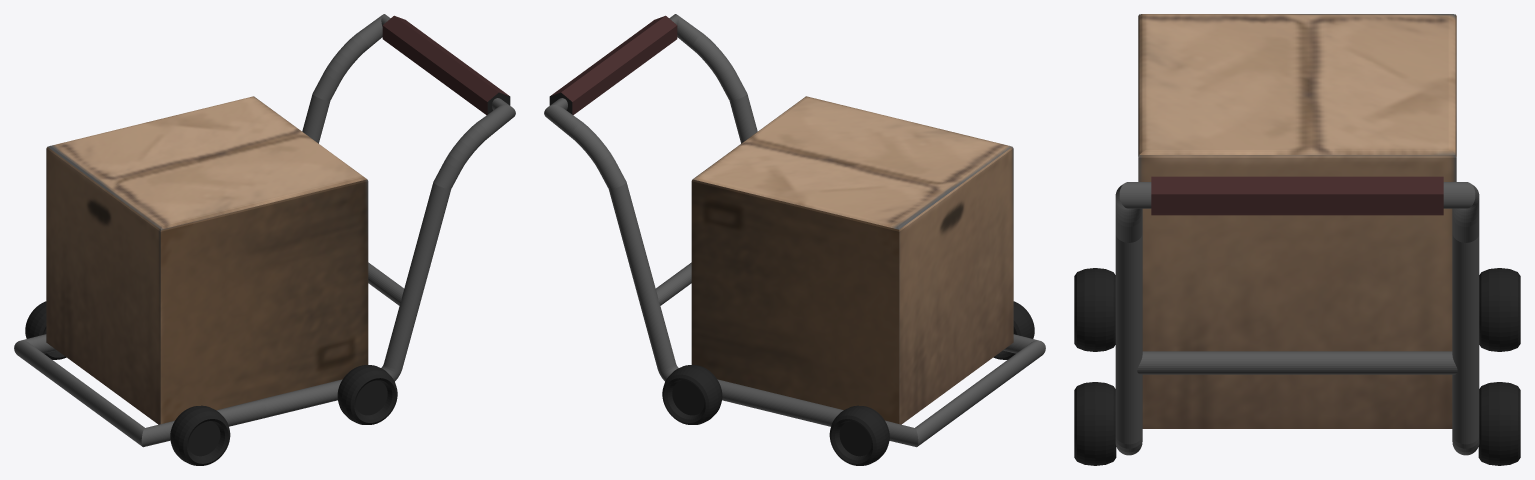
The model's file is trolley.fbx.
3 views of the same model, side by side, from view 1: azimuth 30°, elevation 25°; view 2: azimuth 150°, elevation 25°; view 3: azimuth 270°, elevation 25° (orthographic). The views are drawn at different scales.
Parts seen in each view (by area): view 1: cart; view 2: cart; view 3: cart.
Boxes of the visible parts, x1,y1,x2,y2 form: cart: (14,14,515,465); cart: (544,14,1045,465); cart: (1074,14,1520,465).
Size of the model in its own units: 0.8629 by 0.6041 by 0.6294.
